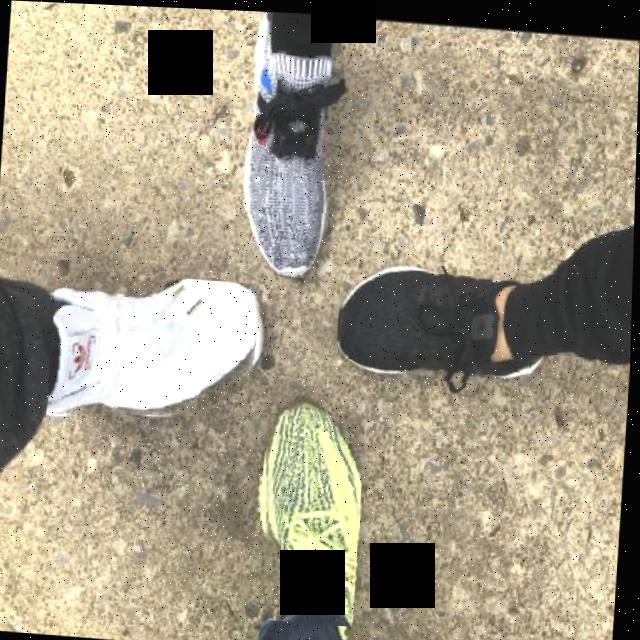shoe: (49, 267, 266, 428), (336, 253, 539, 383), (255, 392, 369, 623), (239, 31, 342, 276)
